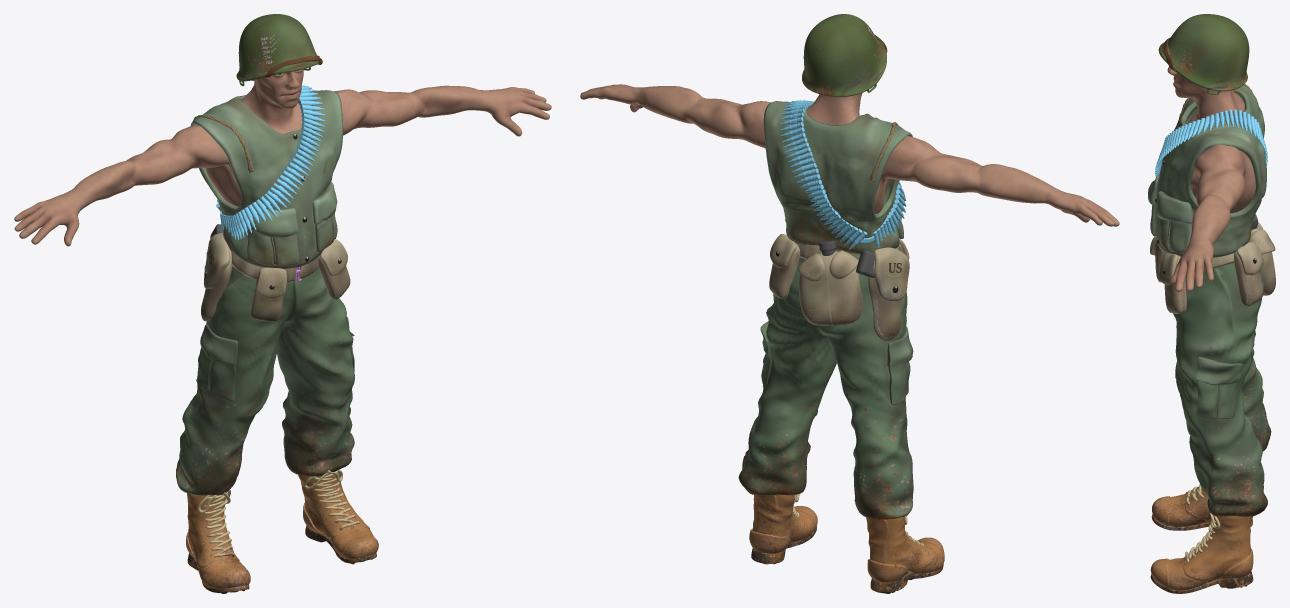
File: Fig 36.fbx
3 views of the same model, side by side, from view 1: azimuth 30°, elevation 25°; view 2: azimuth 150°, elevation 25°; view 3: azimuth 270°, elevation 25° (orthographic).
Visible parts, largest first — view 1: Trousers1, Vietnam_T_pose_10, Jacket_03, Boot_03, Pouches_12, Helmet2, Bullets1; view 2: Trousers1, Vietnam_T_pose_10, Jacket_03, Pouches_12, Boot_03, Helmet2, Bullets1; view 3: Trousers1, Jacket_03, Vietnam_T_pose_10, Boot_03, Helmet2, Pouches_12, Bullets1.
Boxes of the visible parts, left/top/right/bottom form: Trousers1: left=176, top=266, right=354, bottom=495; Vietnam_T_pose_10: left=14, top=69, right=551, bottom=585; Jacket_03: left=190, top=90, right=343, bottom=268; Boot_03: left=186, top=469, right=378, bottom=593; Pouches_12: left=201, top=224, right=350, bottom=321; Helmet2: left=236, top=14, right=322, bottom=86; Bullets1: left=216, top=85, right=325, bottom=240; Trousers1: left=738, top=250, right=913, bottom=519; Vietnam_T_pose_10: left=580, top=84, right=1119, bottom=578; Jacket_03: left=763, top=101, right=912, bottom=254; Pouches_12: left=769, top=234, right=909, bottom=340; Boot_03: left=749, top=494, right=944, bottom=593; Helmet2: left=802, top=14, right=887, bottom=96; Bullets1: left=780, top=100, right=906, bottom=249; Trousers1: left=1173, top=263, right=1271, bottom=516; Jacket_03: left=1148, top=84, right=1266, bottom=257; Vietnam_T_pose_10: left=1154, top=67, right=1255, bottom=580; Boot_03: left=1150, top=484, right=1253, bottom=593; Helmet2: left=1158, top=14, right=1249, bottom=94; Pouches_12: left=1150, top=214, right=1275, bottom=313; Bullets1: left=1155, top=109, right=1267, bottom=176.
Size of the model in its own units: 217 by 213 by 45.8.
11 materials, 9 textured.
